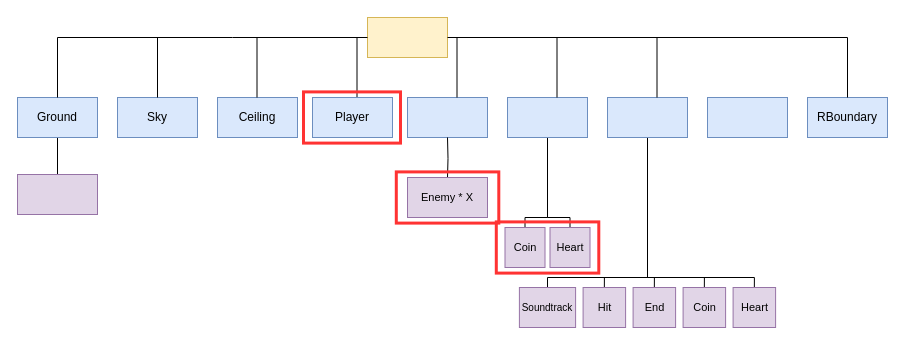
The diagram is 905 pixels wide and 345 high, and some of its shapes have lost their labels. The shapes that lost their labels are listed below. From the top down, each one's box as (x1, y1, x2, y2) in pixels, then its label:
(366, 16, 448, 58): Scene
(406, 96, 488, 138): Enemies
(506, 96, 588, 138): Collectibles
(606, 96, 688, 138): Audio
(706, 96, 788, 138): LBoundary
(16, 174, 98, 214): Ground_Trigger
